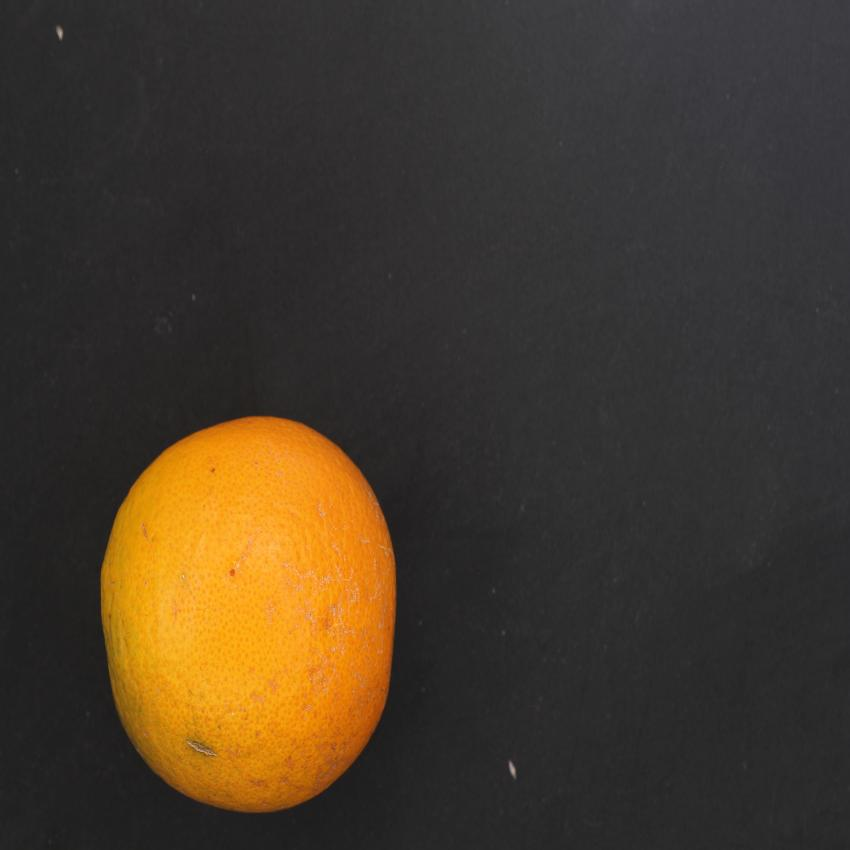Mal estado: (92, 401, 409, 821)
